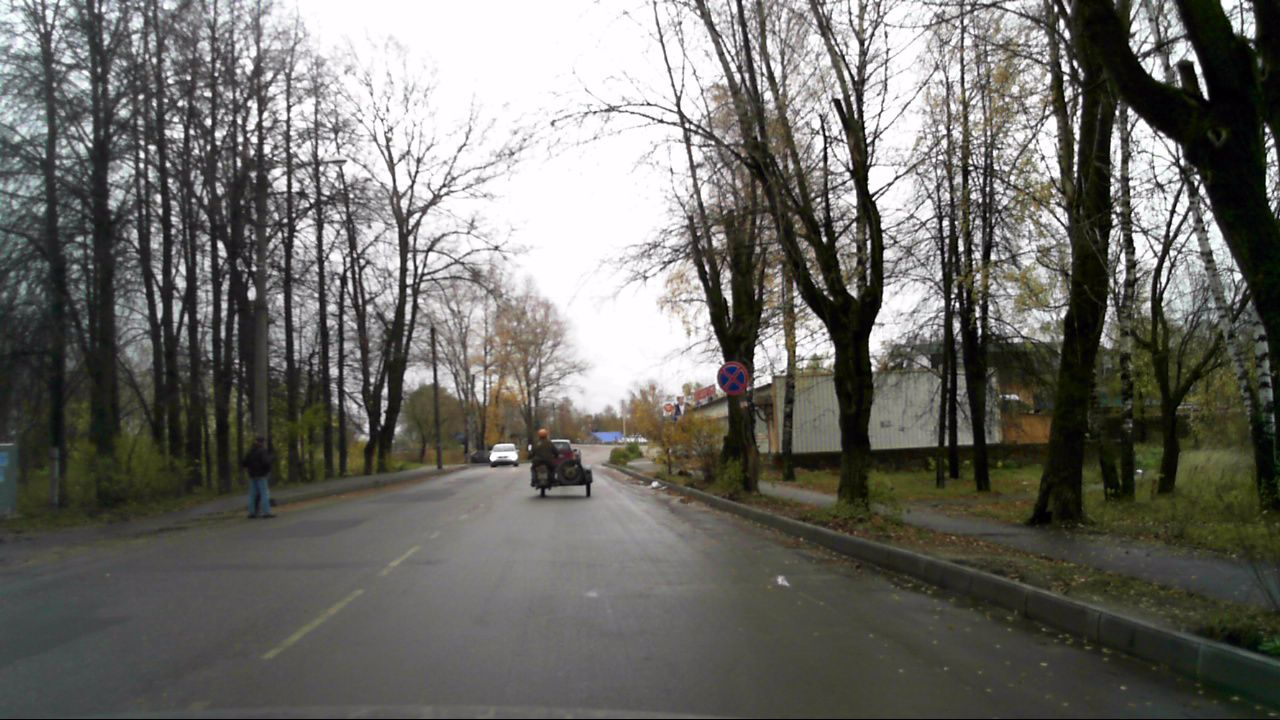No Parking: (715, 360, 750, 395)
